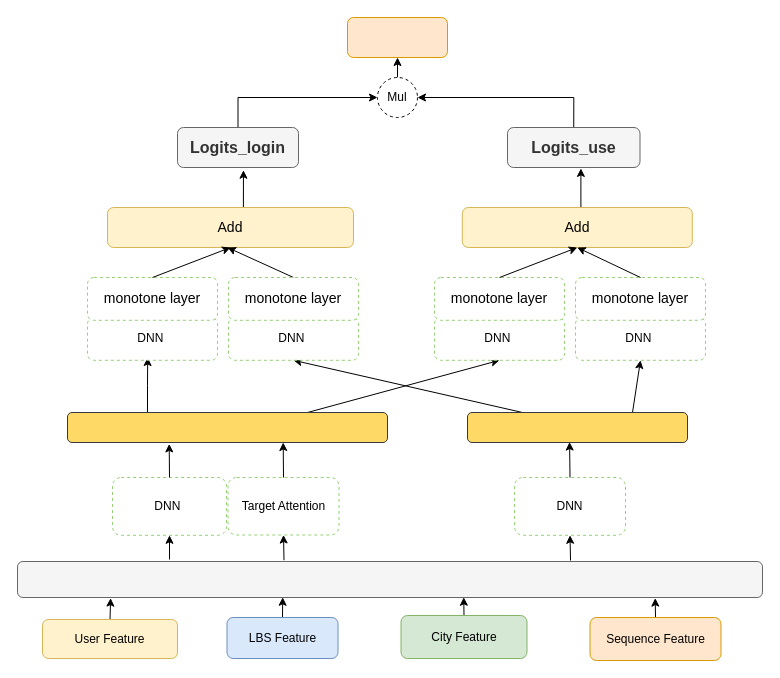
The diagram is 780 pixels wide and 678 high, and some of its shapes have lost their labels. Here are the shapes that lost their labels. From the top down, the centre of each, then its label:
the point at 397,37: Predict
the point at 227,427: main
the point at 577,427: bias
the point at 389,579: Embedding Layer
